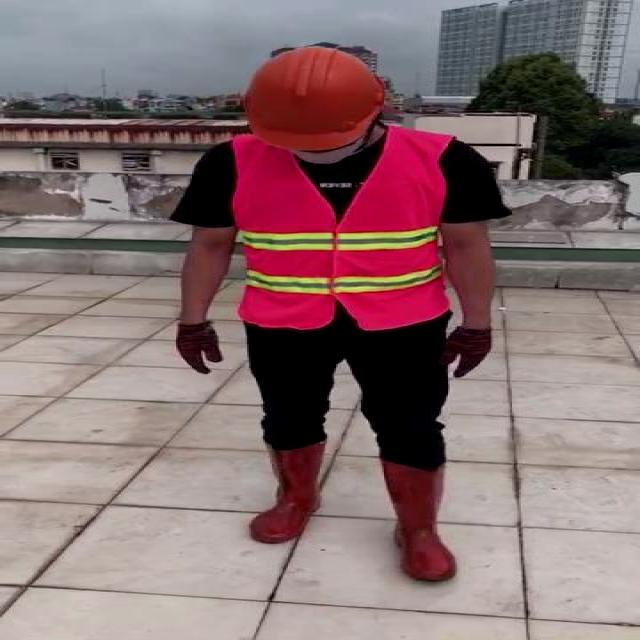boots: (387, 460, 457, 582), (249, 440, 327, 543)
hand_glove: (437, 328, 496, 376), (174, 322, 220, 377)
head_helmet: (241, 44, 387, 154)
person: (158, 39, 512, 592)
vest: (235, 131, 446, 330)
